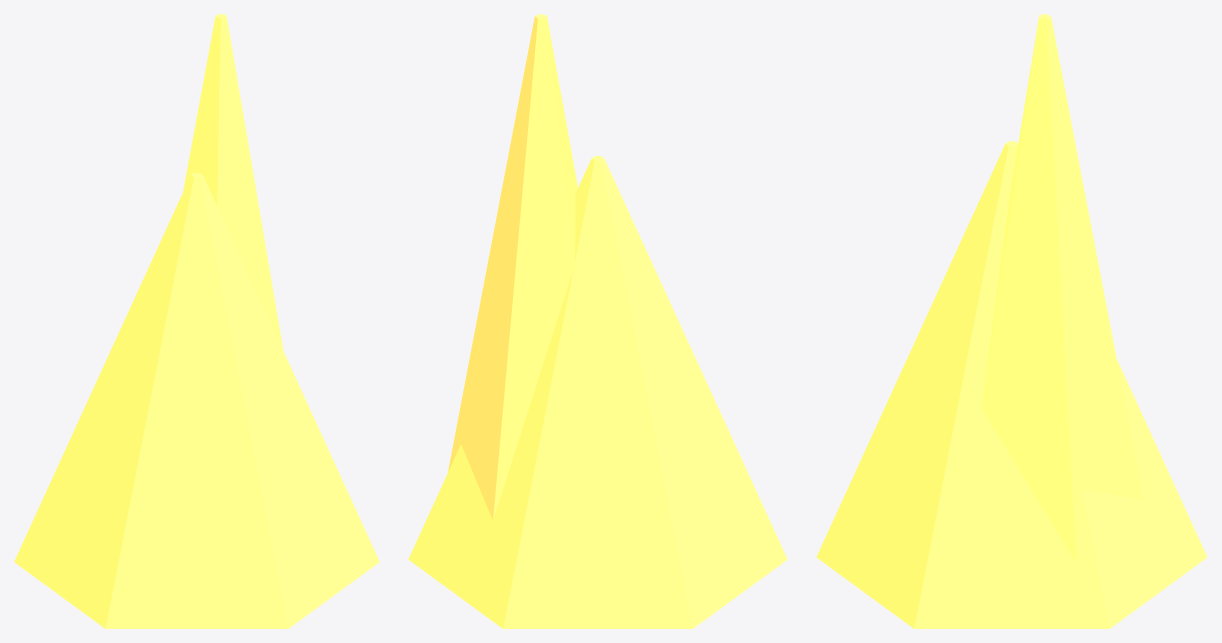
Rendered from beacon_flame.glb.
3 renders of one model, left to right at view 1: azimuth 30°, elevation 25°; view 2: azimuth 150°, elevation 25°; view 3: azimuth 270°, elevation 25°, orthographic. The views are drawn at different scales.
Visible parts, largest first — view 1: beacon_flame; view 2: beacon_flame; view 3: beacon_flame.
Boxes of the visible parts, x1,y1,x2,y2 form: beacon_flame: [14, 14, 379, 628]; beacon_flame: [408, 14, 787, 628]; beacon_flame: [816, 14, 1207, 628].
Bounding box in the file's own units: 1.04 × 1.9 × 1.2.
